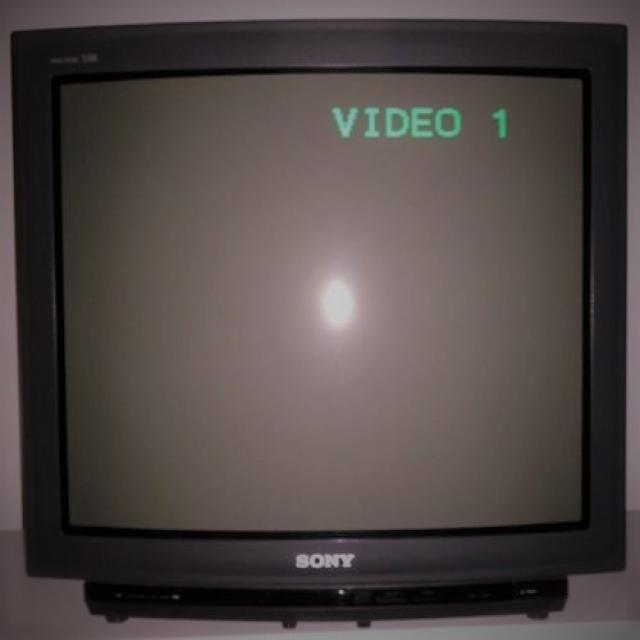electronics: (13, 19, 625, 615), (61, 73, 582, 528), (83, 578, 566, 627), (332, 106, 461, 138), (320, 602, 332, 615), (494, 110, 503, 119), (379, 606, 388, 614), (498, 122, 503, 135), (287, 611, 294, 615), (250, 611, 256, 615), (236, 608, 239, 614), (247, 599, 248, 614), (158, 599, 162, 602), (198, 590, 200, 593), (341, 608, 343, 610), (297, 614, 299, 615)
